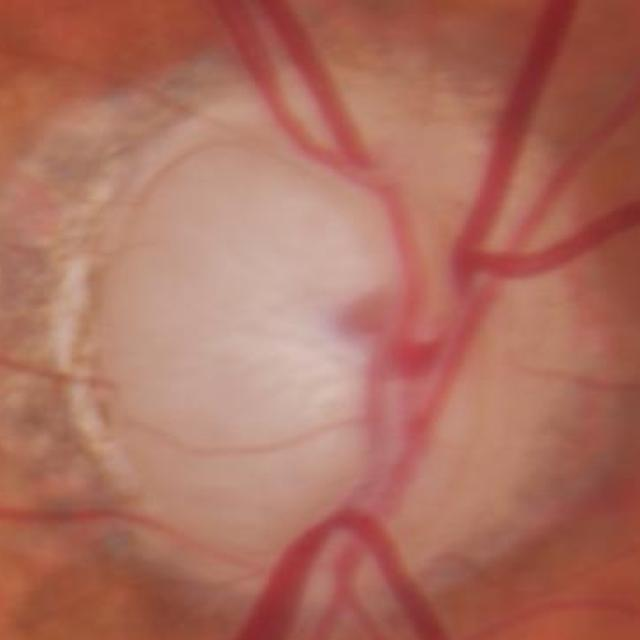OC: (252, 213, 453, 415)
OD: (43, 4, 629, 614)
